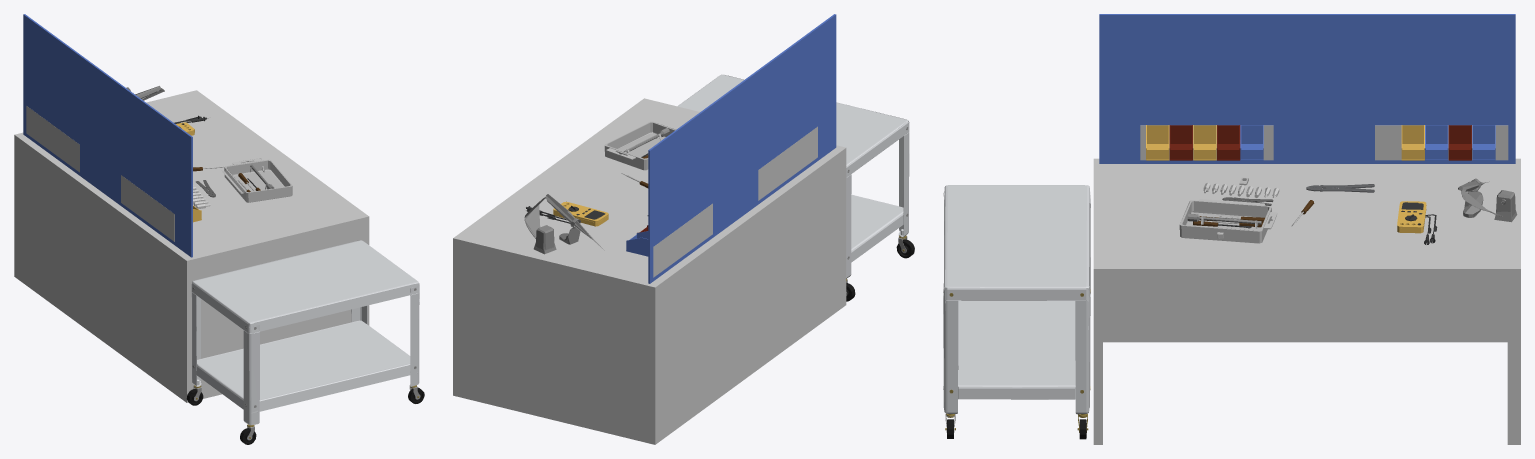
Rendered from TD room-working-bench.fbx.
3 views of the same model, side by side, from view 1: azimuth 30°, elevation 25°; view 2: azimuth 150°, elevation 25°; view 3: azimuth 270°, elevation 25° (orthographic). The views are drawn at different scales.
Visible parts, largest first — view 1: workbenche.001; view 2: workbenche.001; view 3: workbenche.001.
Part boxes in pixels (box(x1,y1,x2,y2)): workbenche.001: box(14, 14, 424, 444); workbenche.001: box(453, 14, 914, 444); workbenche.001: box(943, 14, 1520, 444).
Bounding box in the file's own units: 293 × 396 × 639.
